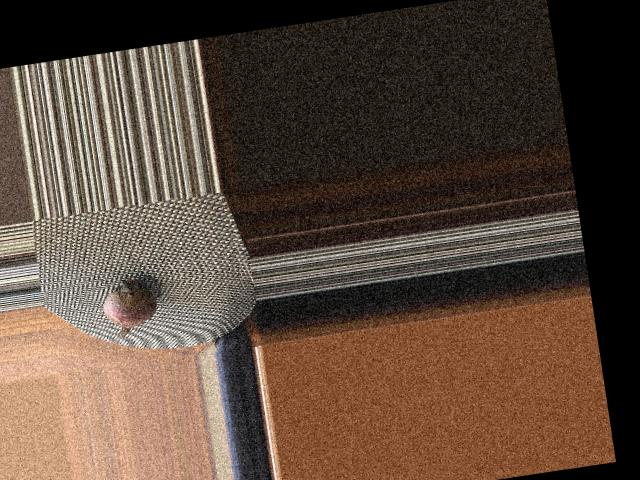beet: (91, 272, 169, 347)
